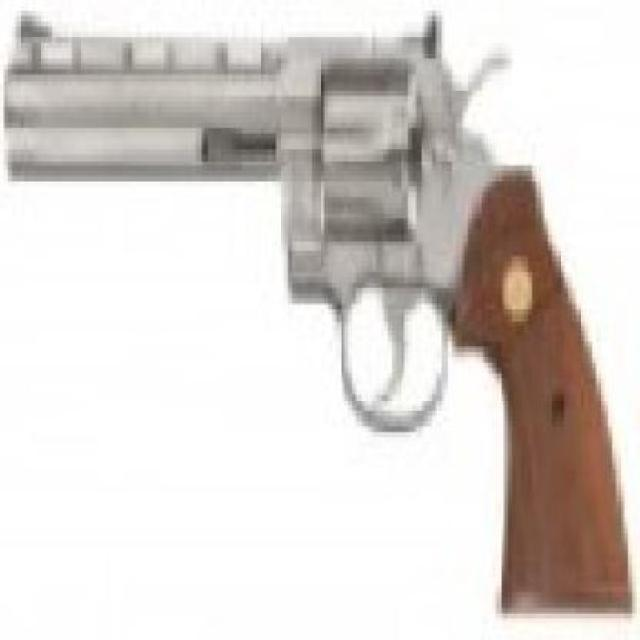gun: (8, 5, 632, 613)
